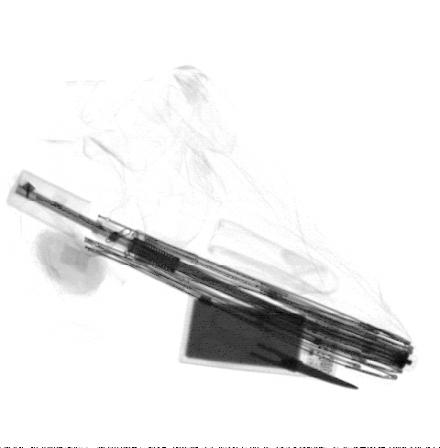Powerbank: (177, 293, 348, 378)
Scissors: (194, 303, 363, 395)
